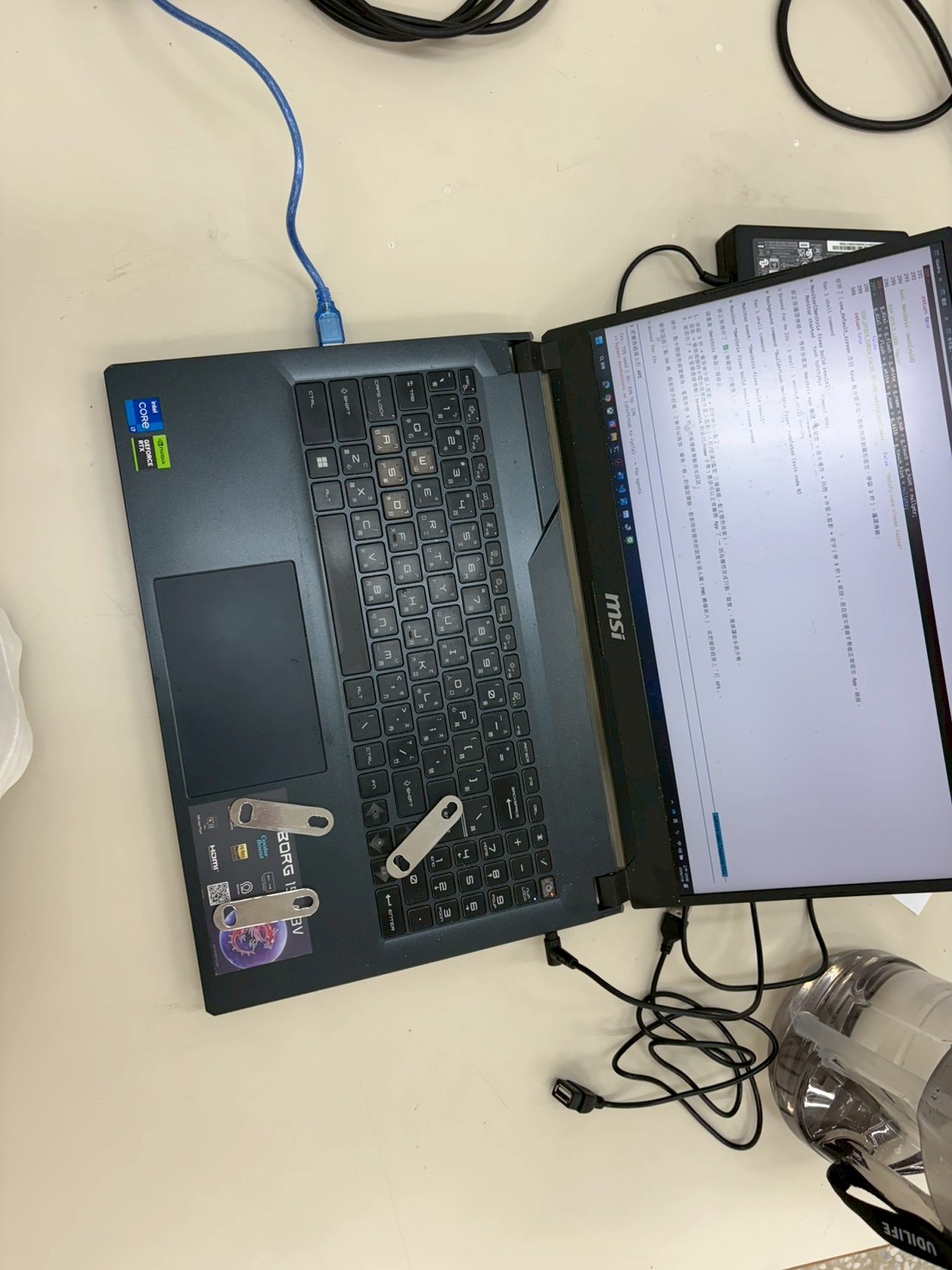Fe: (382, 795, 473, 882), (209, 880, 322, 939), (227, 788, 336, 845)
